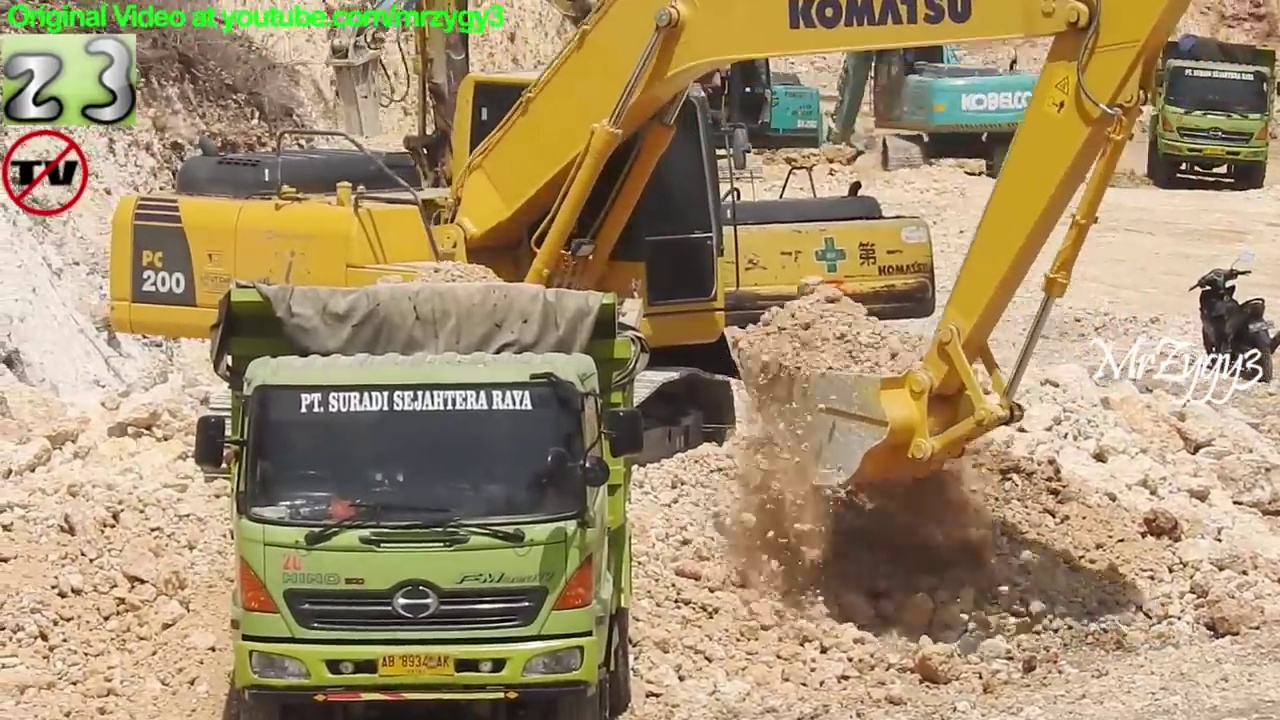excavator: (91, 3, 1206, 509), (383, 1, 953, 407), (315, 1, 833, 193), (822, 1, 1088, 190)
truck: (189, 276, 654, 720), (1143, 29, 1280, 191)
